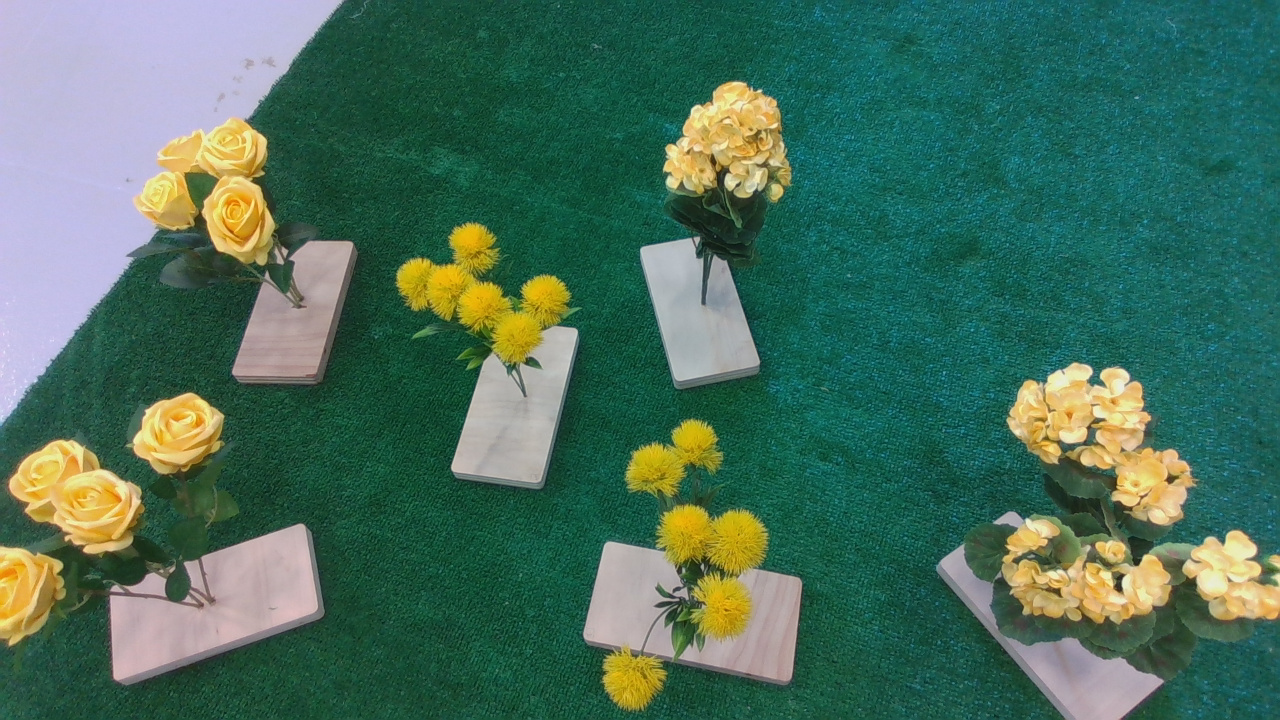dandelion: (580, 420, 784, 720), (385, 228, 586, 385)
geranium: (977, 358, 1280, 713), (664, 69, 799, 304)
rose: (0, 401, 258, 698), (126, 126, 317, 305)
